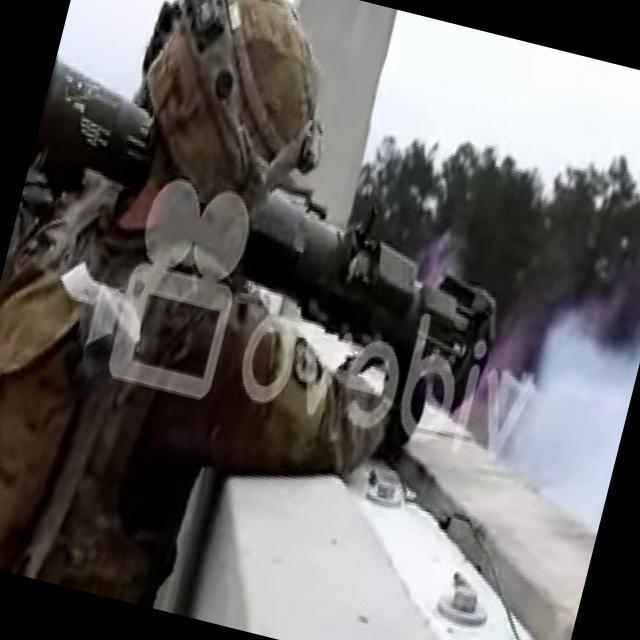rocket: (0, 70, 529, 422)
